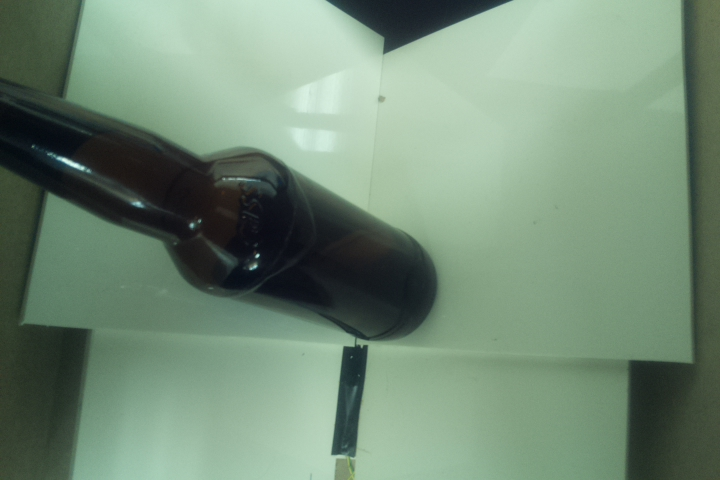makju: (1, 72, 438, 343)
